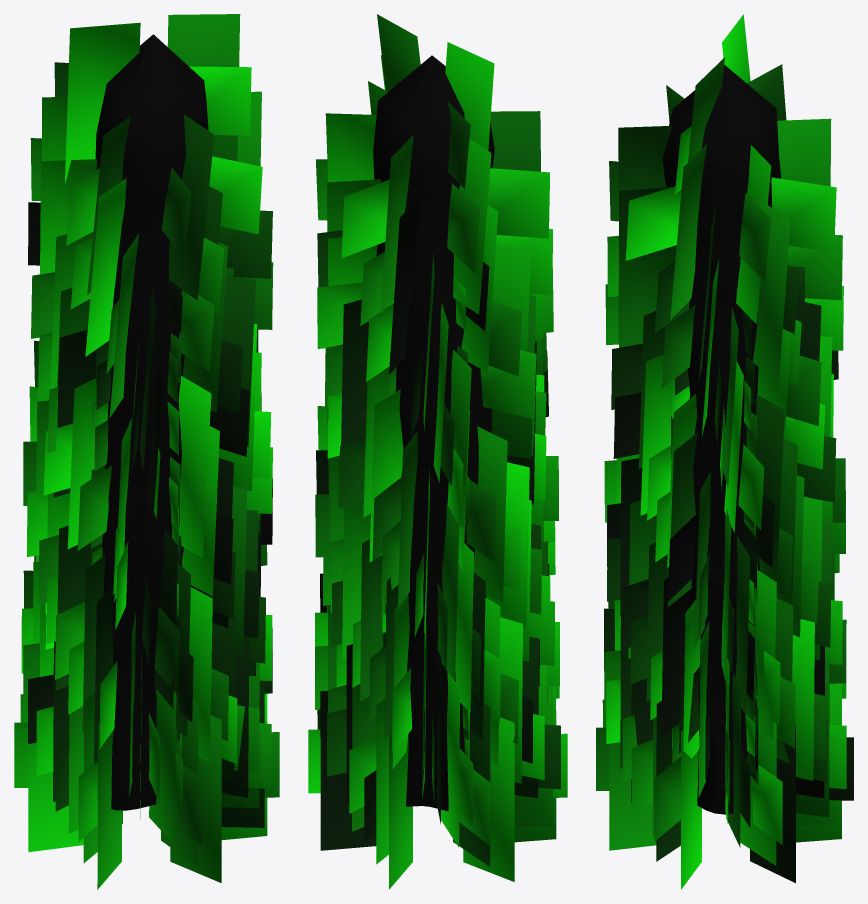
The model's file is Cactus_2_2.fbx.
The picture shows the model from 3 angles, left to right: view 1: azimuth 30°, elevation 25°; view 2: azimuth 150°, elevation 25°; view 3: azimuth 270°, elevation 25°; orthographic projection. The views are drawn at different scales.
Parts seen in each view (by area): view 1: Cactus_2_2; view 2: Cactus_2_2; view 3: Cactus_2_2.
Part boxes in pixels (box(x1,y1,x2,y2)): Cactus_2_2: box(14, 14, 279, 889); Cactus_2_2: box(308, 14, 567, 889); Cactus_2_2: box(596, 14, 853, 889).
Bounding box in the file's own units: 106 × 378 × 111.
